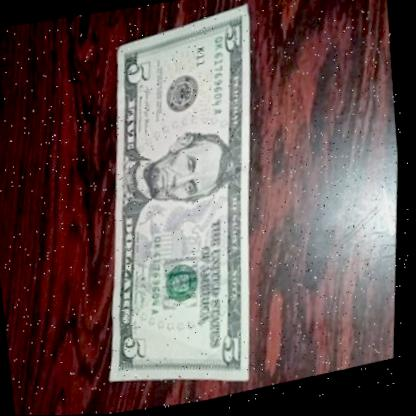dollar_front: (58, 0, 311, 406)
